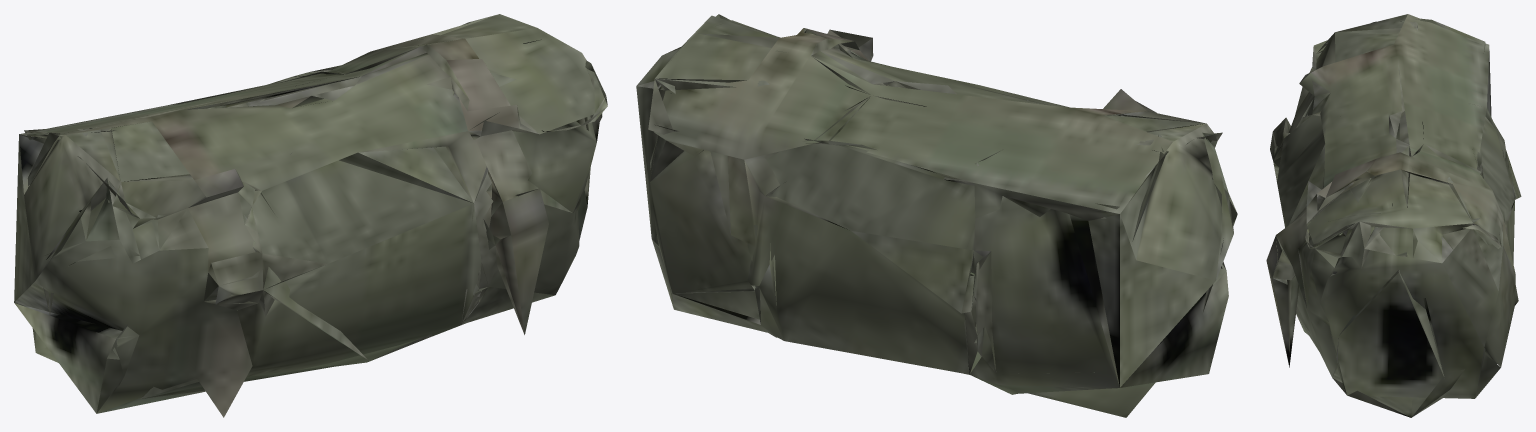
Rendered from sandbags_823108390_lod0m.glb.
The picture shows the model from 3 angles, left to right: view 1: azimuth 30°, elevation 25°; view 2: azimuth 150°, elevation 25°; view 3: azimuth 270°, elevation 25°; orthographic projection. The views are drawn at different scales.
Bounding box in the file's own units: 2.59 × 1.23 × 1.27.
1 material, 1 textured.
